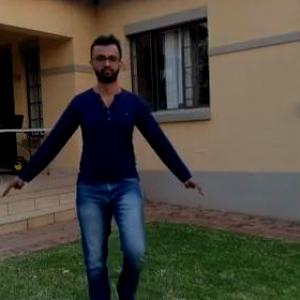land: (6, 29, 215, 299)
